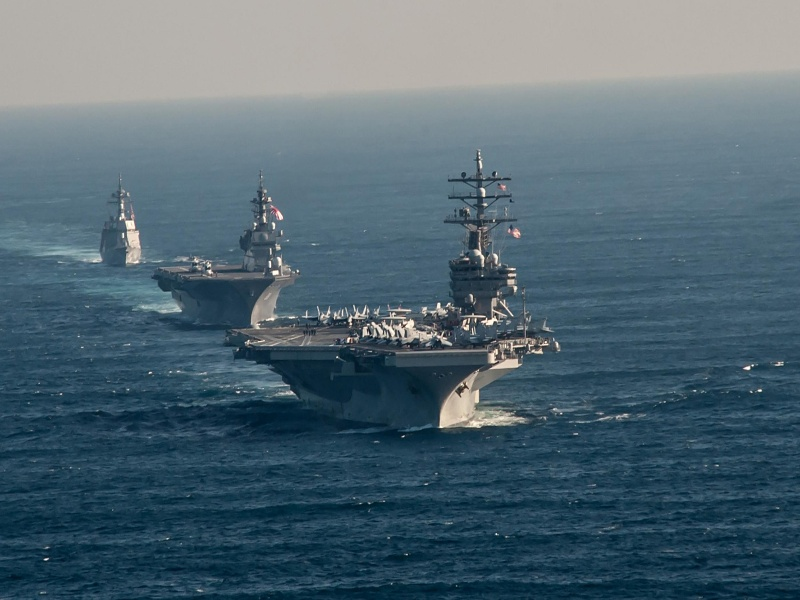carrier: (271, 260, 605, 438), (155, 215, 293, 322)
cruise: (95, 178, 145, 271)
